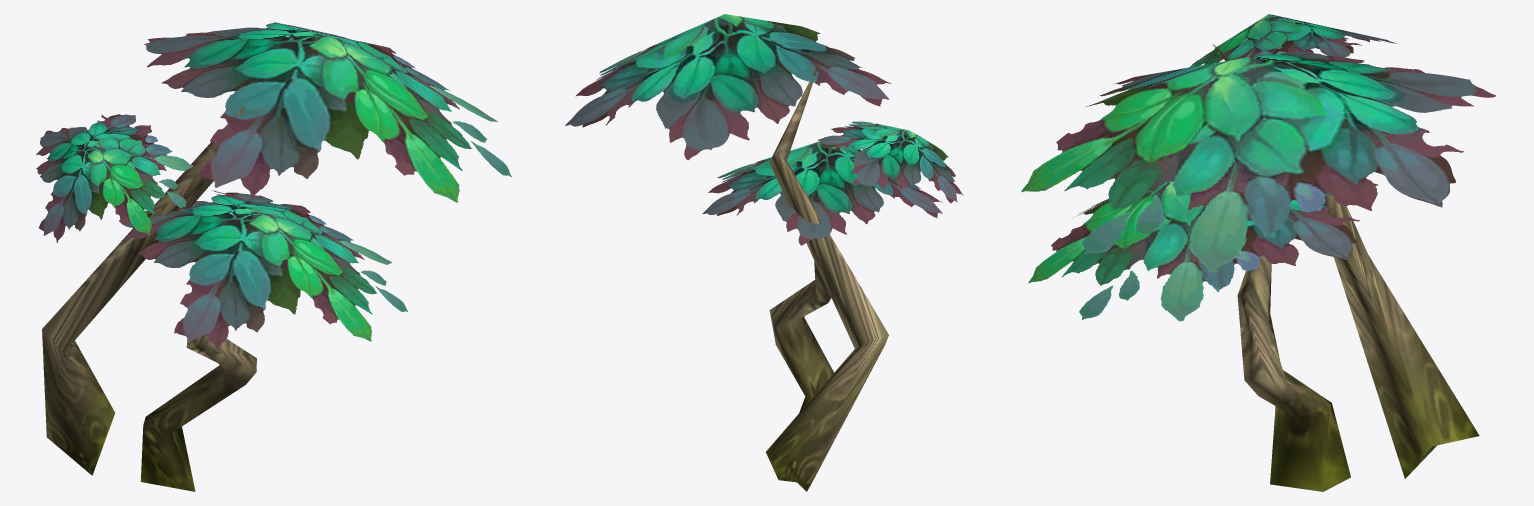
The model's file is shu_02.FBX.
3 renders of one model, left to right at view 1: azimuth 30°, elevation 25°; view 2: azimuth 150°, elevation 25°; view 3: azimuth 270°, elevation 25°, orthographic. The views are drawn at different scales.
Parts seen in each view (by area): view 1: 对象126, 对象125, 对象122, 对象124, 对象123; view 2: 对象126, 对象122, 对象125, 对象124, 对象123; view 3: 对象126, 对象125, 对象122, 对象123, 对象124.
Part boxes in pixels (x1,y1,x2,y2): 对象126: [144, 22, 511, 202]; 对象125: [124, 190, 407, 350]; 对象122: [42, 105, 244, 475]; 对象124: [36, 114, 193, 242]; 对象123: [140, 288, 256, 491]; 对象126: [565, 14, 891, 160]; 对象122: [766, 58, 888, 491]; 对象125: [702, 141, 942, 245]; 对象124: [817, 121, 963, 203]; 对象123: [769, 261, 833, 412]; 对象126: [1021, 51, 1495, 272]; 对象125: [1028, 181, 1377, 321]; 对象122: [1213, 44, 1479, 478]; 对象123: [1237, 255, 1350, 491]; 对象124: [1189, 14, 1397, 67].
Bounding box in the file's own units: 274 × 271 × 251.
